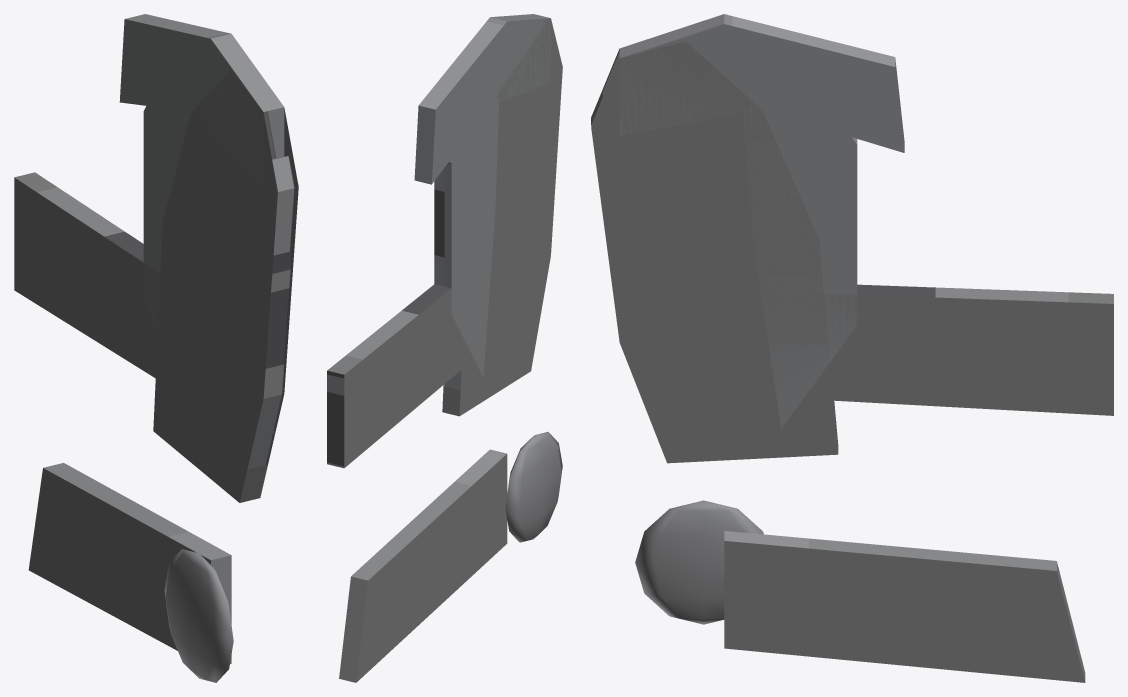
3 views of the same model, side by side, from view 1: azimuth 30°, elevation 25°; view 2: azimuth 150°, elevation 25°; view 3: azimuth 270°, elevation 25° (orthographic). The views are drawn at different scales.
Size of the model in its own units: 0.0858 by 0.9945 by 0.715.
